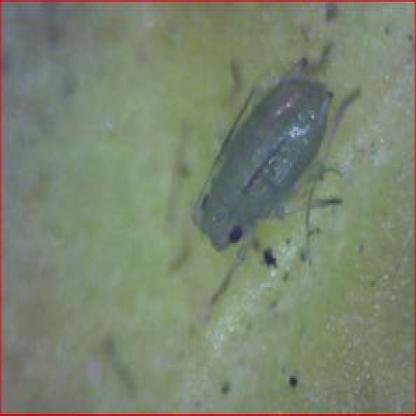aphid: (192, 57, 330, 263)
